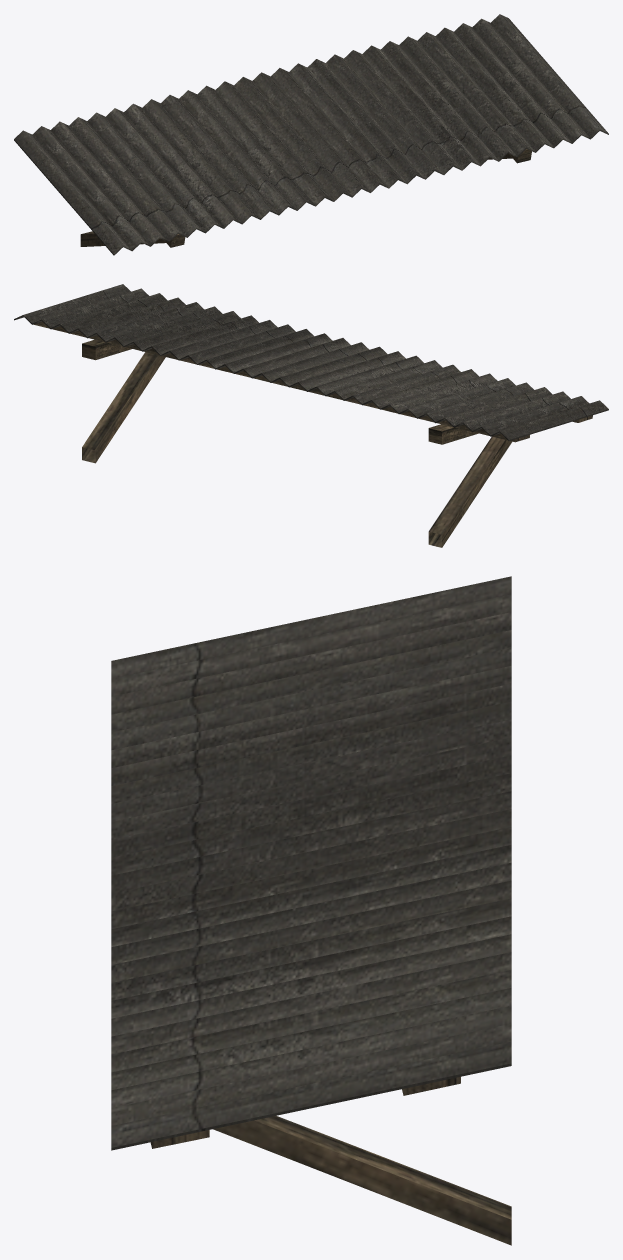
Rendered from roof_small_hr_2.obj.
3 renders of one model, top to bottom at view 1: azimuth 30°, elevation 25°; view 2: azimuth 150°, elevation 25°; view 3: azimuth 270°, elevation 25°, orthographic. The views are drawn at different scales.
Parts seen in each view (by area): view 1: roof_small_hr_2; view 2: roof_small_hr_2; view 3: roof_small_hr_2.
Part boxes in pixels (left/top/right/bottom): roof_small_hr_2: left=14, top=14, right=608, bottom=255; roof_small_hr_2: left=14, top=284, right=608, bottom=547; roof_small_hr_2: left=111, top=576, right=511, bottom=1245.
Bounding box in the file's own units: 4 × 1.01 × 1.4.
